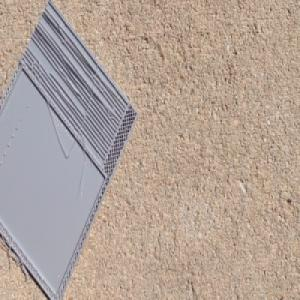PlasticPart: (0, 0, 140, 300)
